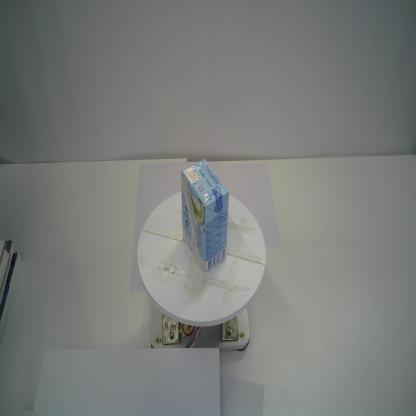Milk: (180, 156, 228, 274)
